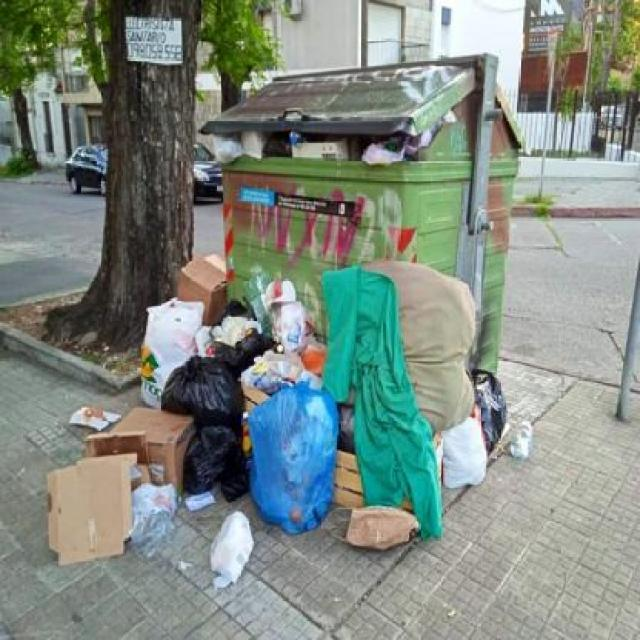garbage: (51, 254, 534, 588), (216, 120, 455, 178)
